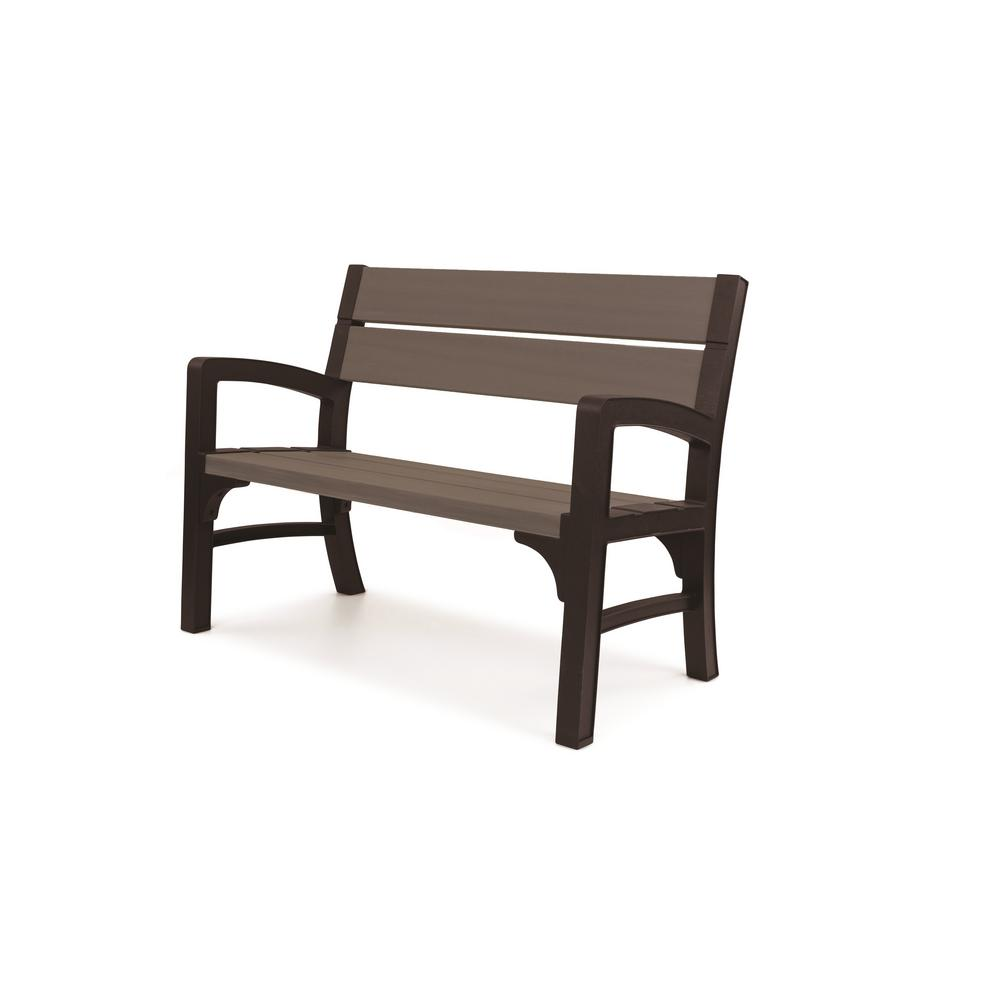chairs: (164, 257, 753, 763)
